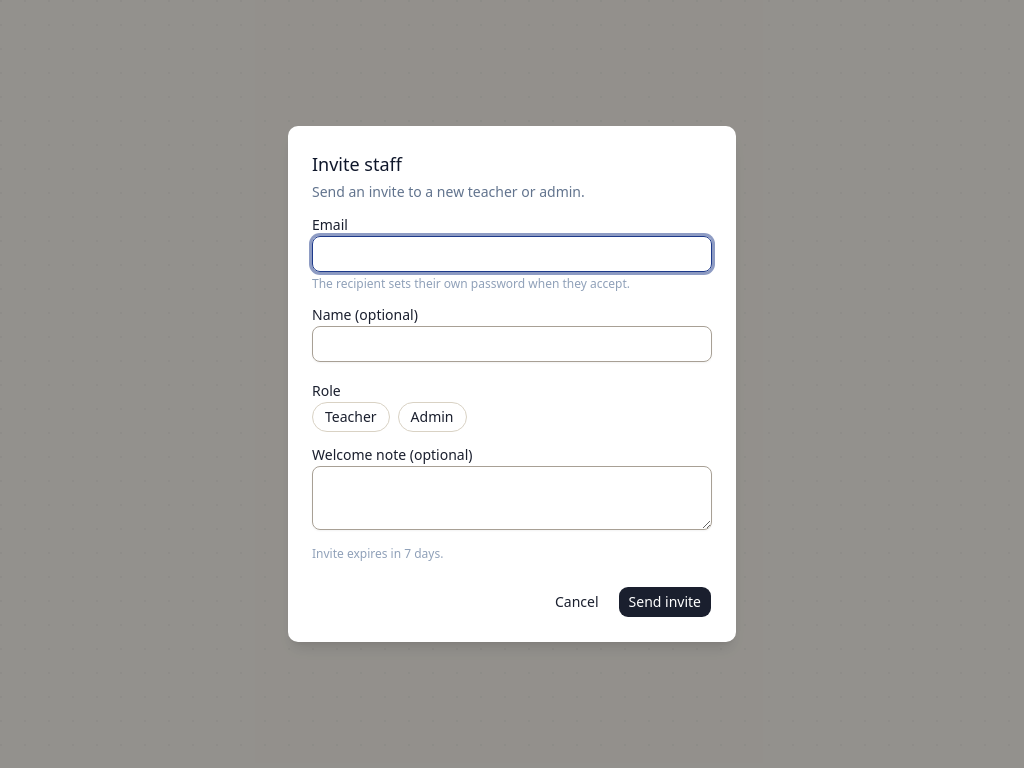
it: InviteStaffModal — AC17 classId is teacher-only › P0 classId field is present for role=teacher and absent for role=admin
Expected: the field labelled "Email" is shown, [312,236,712,272]
Note: Teacher selected → classId affordance appears.
Click the button with test id "role-chip-teacher" at [351, 417], box [312,402,390,432]
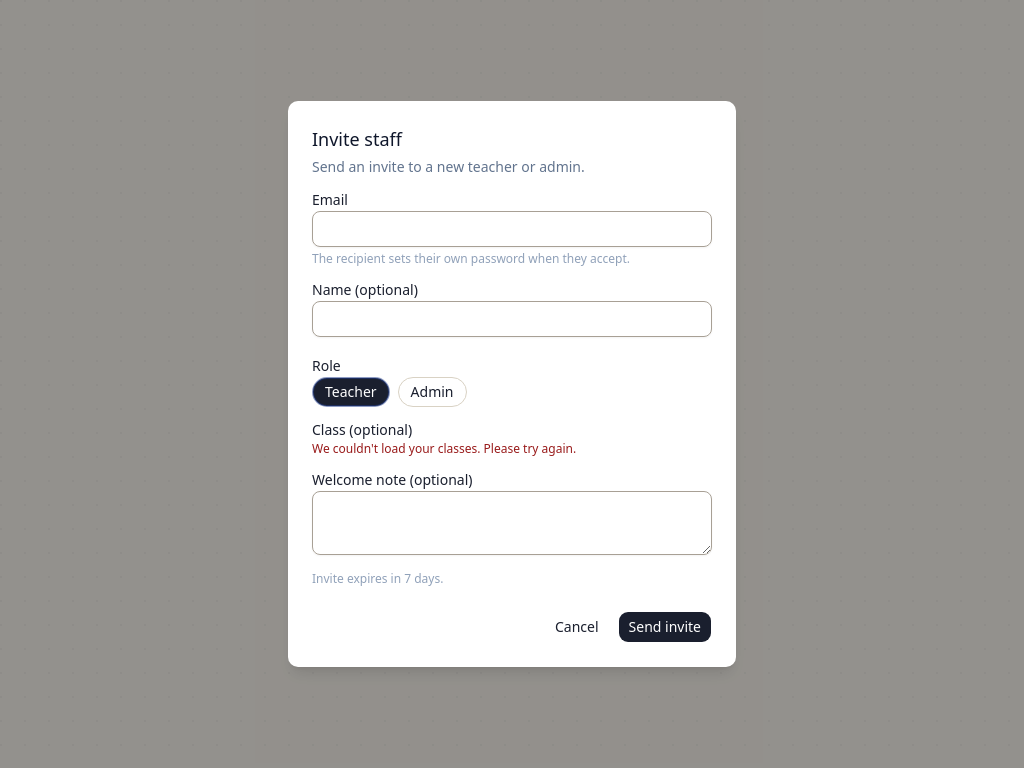
Now the element with test id "invite-field-classId" is shown, box [312,420,576,457]
Note: Switch to Admin → classId affordance is removed from the DOM.
Click the button with test id "role-chip-admin" at [432, 392], box [398,377,466,407]
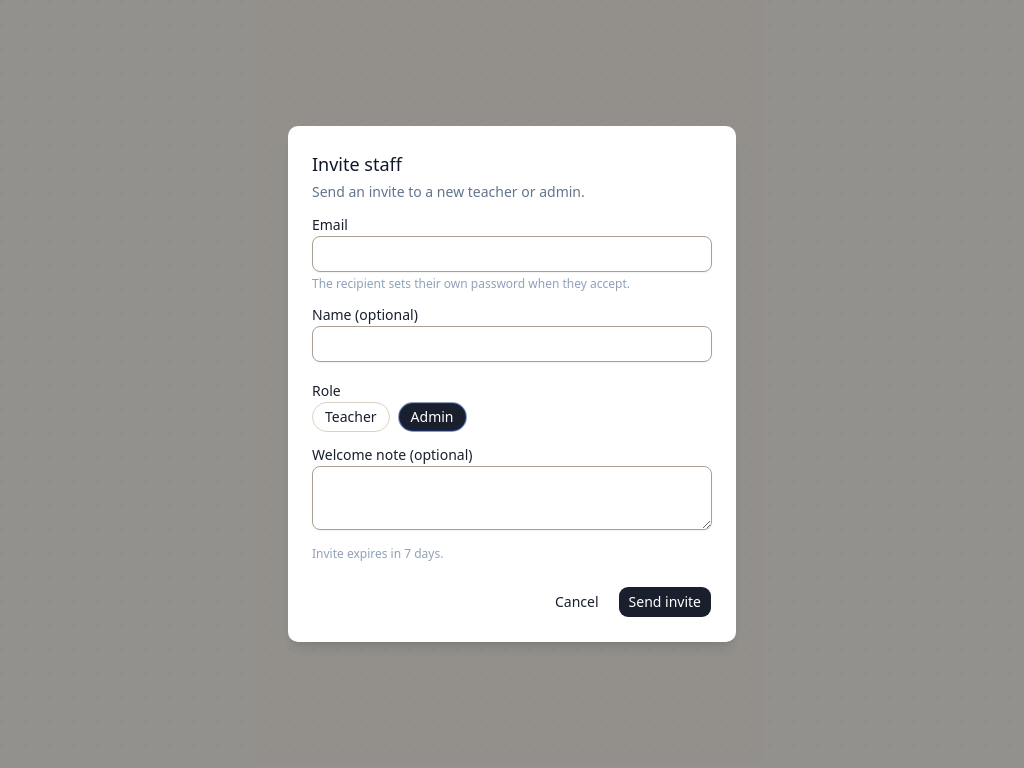
Now the element with test id "invite-field-classId" is gone
